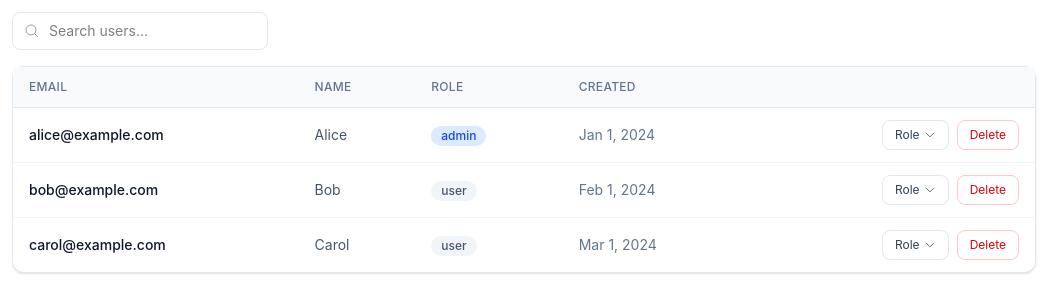
UsersView › search filters users by name
Type "Carol" into the search field with placeholder "Search users...". click: (140, 31)
box: 12,12 -> 268,50
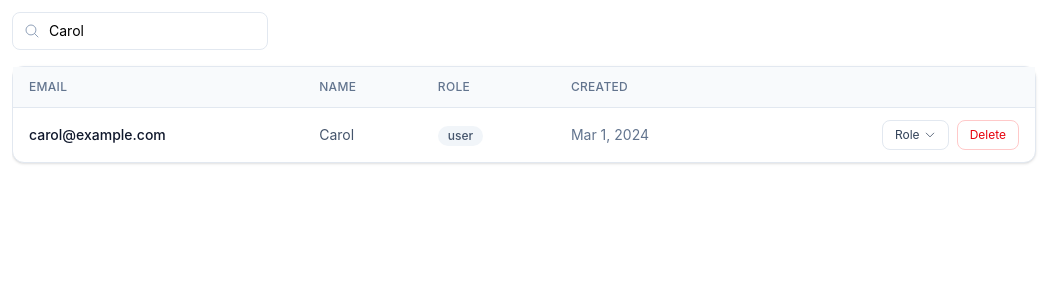
Check: the text "carol@example.com" is shown, box 13,108 -> 303,162
Check: the text "alice@example.com" is gone
